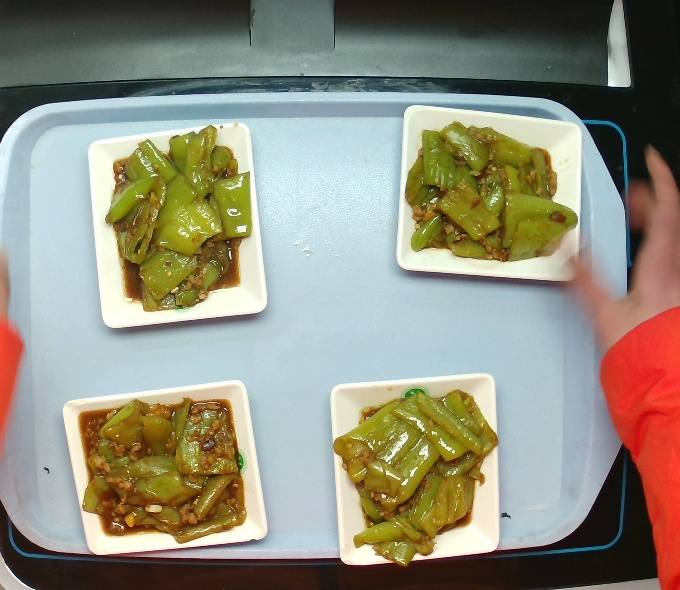wcq-RouMoQingJiao: (331, 377, 499, 570), (101, 120, 254, 321), (397, 112, 576, 273), (77, 381, 246, 551)
